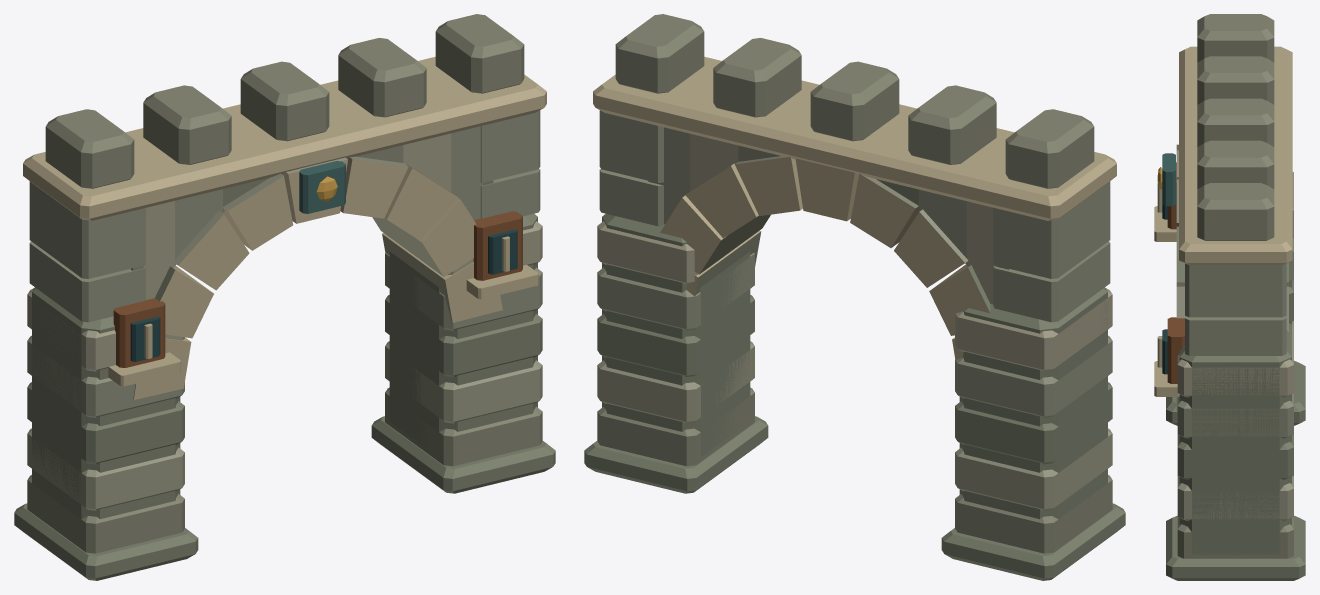
The model's file is castle-gate.glb.
3 views of the same model, side by side, from view 1: azimuth 30°, elevation 25°; view 2: azimuth 150°, elevation 25°; view 3: azimuth 270°, elevation 25° (orthographic). The views are drawn at different scales.
Parts seen in each view (by area): view 1: Gatehouse; view 2: Gatehouse; view 3: Gatehouse.
Part boxes in pixels (x1=…): Gatehouse: x1=14, y1=14, x2=555, y2=580; Gatehouse: x1=584, y1=14, x2=1125, y2=580; Gatehouse: x1=1154, y1=14, x2=1305, y2=580.
Bounding box in the file's own units: 3.18 × 2.73 × 0.997.
